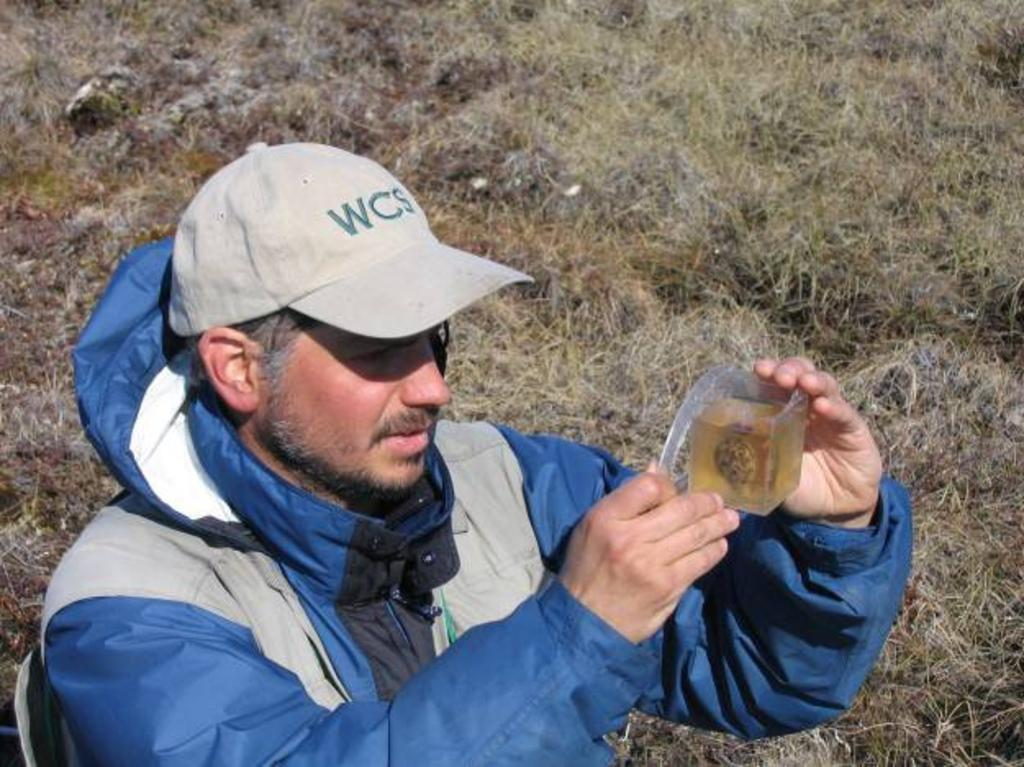Hat: (168, 147, 538, 342)
